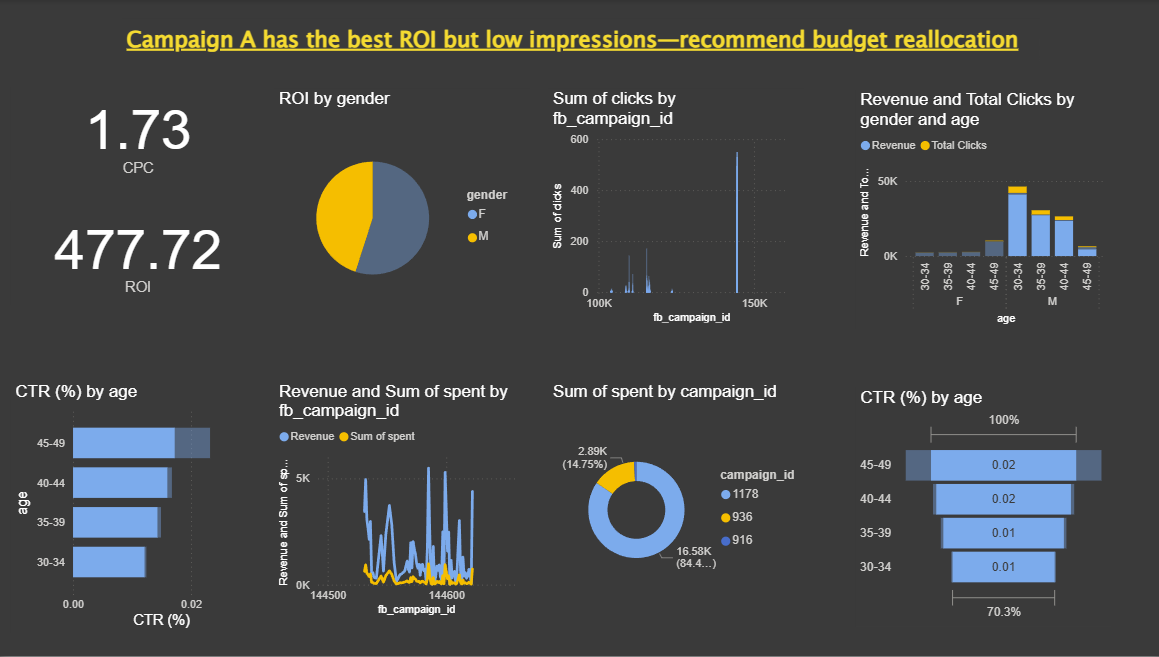

The dashboard page shown, as its layout file describes it:
{"tool":"powerbi","page":{"name":"Page 1","canvas":[1280,720],"ordinal":0},"visuals":[{"type":"card","fields":{"Values":["data.CPC"]},"box":[15.1,96.1,279.9,101.5],"z":0},{"type":"card","fields":{"Values":["data.ROI"]},"box":[15.1,220.9,279.9,113.9],"z":1000},{"type":"clusteredBarChart","fields":{"Category":["data.age"],"Y":["data.CTR (%)"]},"box":[15.1,418.5,279.9,275.8],"z":2000},{"type":"pieChart","fields":{"Category":["data.gender"],"Y":["data.ROI"]},"box":[304.6,97.4,279.9,263.5],"z":3000},{"type":"columnChart","fields":{"Y":["Sum(data.clicks)"],"Category":["data.fb_campaign_id"]},"box":[605.1,97.4,279.9,262.1],"z":4000},{"type":"lineChart","fields":{"Category":["data.fb_campaign_id"],"Y":["data.Revenue","Sum(data.spent)"]},"box":[304.6,418.5,279.9,262.1],"z":5000},{"type":"funnel","fields":{"Category":["data.age"],"Y":["data.CTR (%)"]},"box":[942.7,425.4,279.9,262.1],"z":6000},{"type":"donutChart","fields":{"Category":["data.campaign_id"],"Y":["Sum(data.spent)"]},"box":[605.1,418.5,279.9,262.1],"z":6001},{"type":"columnChart","fields":{"Category":["data.gender","data.age"],"Y":["data.Revenue","data.Total Clicks"]},"box":[942.7,98.8,279.9,262.1],"z":6002},{"type":"textbox","box":[137.2,20.6,1007.2,46.7],"z":6003}]}

Visuals, with their boxes in screenshot pixels (x1, y1, x2, y2), scaled from the page's 1280x720 canvas onto the 1159x657 screenshot:
card - data.CPC: <box>14,88,267,180</box>
card - data.ROI: <box>14,202,267,306</box>
clusteredBarChart - data.age x data.CTR (%): <box>14,382,267,634</box>
pieChart - data.gender x data.ROI: <box>276,89,529,329</box>
columnChart - Sum(data.clicks) x data.fb_campaign_id: <box>548,89,801,328</box>
lineChart - data.fb_campaign_id x data.Revenue: <box>276,382,529,621</box>
funnel - data.age x data.CTR (%): <box>854,388,1107,627</box>
donutChart - data.campaign_id x Sum(data.spent): <box>548,382,801,621</box>
columnChart - data.gender x data.age: <box>854,90,1107,329</box>
textbox: <box>124,19,1036,61</box>
